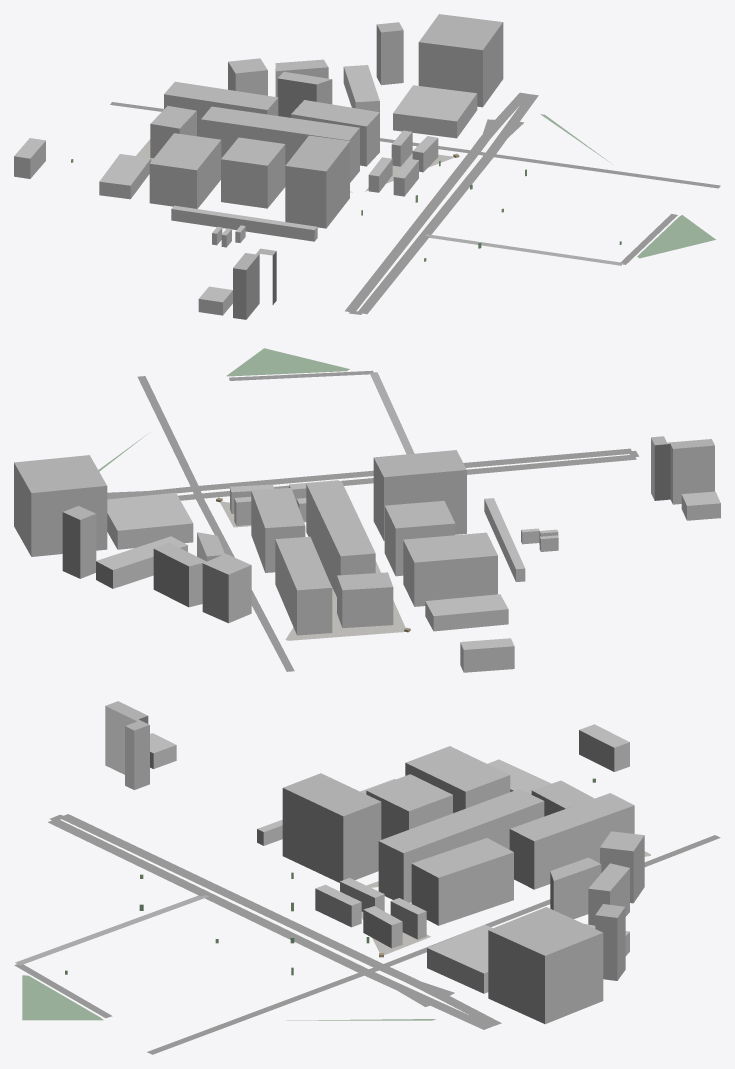
The picture shows the model from 3 angles, top to bottom: view 1: azimuth 30°, elevation 25°; view 2: azimuth 150°, elevation 25°; view 3: azimuth 270°, elevation 25°; orthographic projection. The views are drawn at different scales.
Bounding box in the file's own units: 574 × 60.8 × 562.
